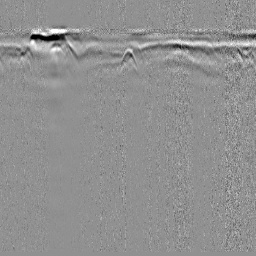cavity: (119, 44, 139, 69)
